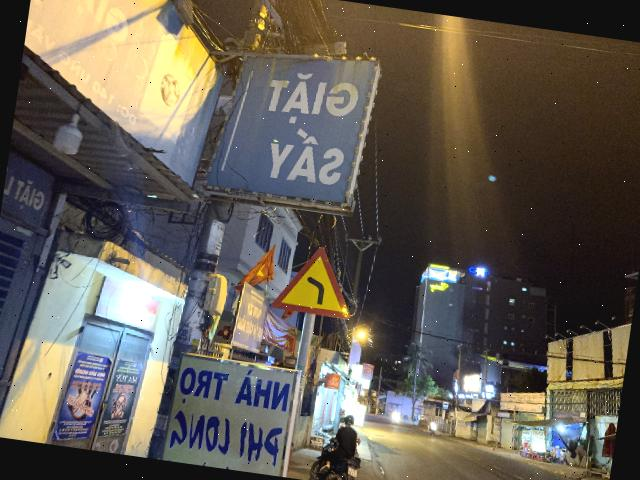cho-ngoat-nguy-hiem-ben-phai: (270, 241, 360, 320)
